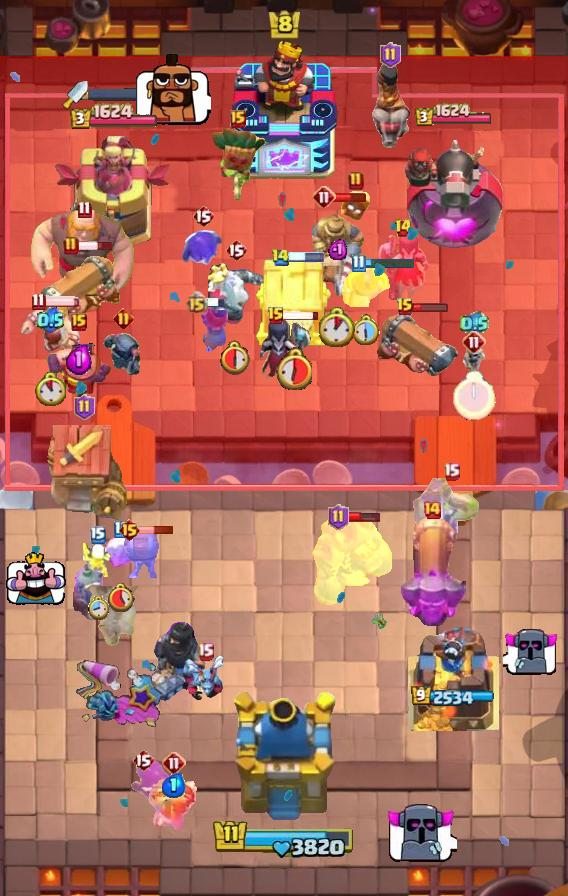bar: (363, 257, 416, 269), (43, 295, 81, 307), (77, 240, 114, 252), (283, 310, 320, 321), (412, 302, 449, 313), (347, 511, 380, 523), (287, 252, 325, 262), (333, 192, 367, 203), (139, 525, 174, 535), (206, 297, 225, 309)
bar-level: (162, 751, 186, 775), (462, 330, 486, 354), (312, 185, 336, 209), (118, 518, 141, 542), (328, 504, 349, 530), (74, 394, 95, 420), (380, 42, 401, 68), (185, 291, 208, 314), (132, 748, 154, 772), (225, 238, 247, 262), (192, 204, 214, 228), (113, 308, 134, 329), (422, 500, 442, 520), (394, 218, 413, 238), (271, 248, 290, 267), (267, 306, 285, 326), (396, 297, 414, 317), (197, 642, 214, 661), (443, 462, 460, 481), (63, 236, 79, 256), (348, 171, 364, 191), (90, 526, 106, 544), (71, 313, 87, 331), (230, 110, 246, 128), (113, 520, 128, 539), (31, 292, 46, 311), (351, 254, 366, 273), (77, 200, 92, 219)
bomber-evolution: (70, 555, 108, 623)
cannoneer-tower: (400, 132, 507, 256)
clock: (453, 371, 496, 421), (275, 347, 312, 390), (319, 307, 355, 347), (220, 339, 253, 375), (35, 372, 66, 406), (352, 314, 381, 346), (106, 582, 135, 612), (88, 596, 109, 621)
dagger-duchess-tower: (52, 132, 176, 256)
dagger-duchess-tower-bar: (88, 88, 152, 101)
dart-goblin: (208, 125, 268, 201)
dirt: (90, 586, 143, 652)
electro-spirit: (129, 759, 181, 805), (182, 228, 224, 268)
elite-barbarian: (17, 298, 83, 360), (342, 264, 391, 307)
elixir: (66, 343, 92, 375), (460, 311, 489, 337), (37, 307, 64, 334), (162, 773, 186, 798), (328, 238, 347, 260)
emote: (133, 52, 211, 126), (385, 800, 457, 864), (6, 552, 66, 606), (503, 626, 559, 676)
executioner: (46, 327, 112, 405)
fire-spirit: (340, 190, 372, 222)
ice-spirit-evolution: (95, 535, 145, 573)
king-tower: (227, 692, 341, 826), (230, 41, 338, 181)
king-tower-bar: (212, 818, 356, 860)
mini-pekka: (101, 331, 145, 379)
minion: (183, 656, 227, 702)
night-witch: (374, 230, 432, 302), (257, 315, 313, 385)
princess: (147, 777, 201, 831)
queen-tower: (407, 627, 499, 731)
ram-rider: (368, 62, 412, 148)
royal-ghost: (204, 258, 268, 330)
skeleton: (83, 543, 113, 577), (461, 344, 487, 374)
tower-bar: (69, 103, 159, 131), (414, 103, 493, 128), (411, 686, 495, 708)
valkyrie: (195, 304, 233, 356)
wall-breaker: (123, 530, 171, 578)
